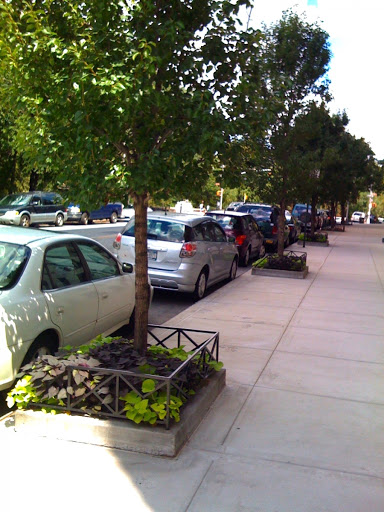tree: (1, 1, 270, 361), (220, 4, 335, 259)
